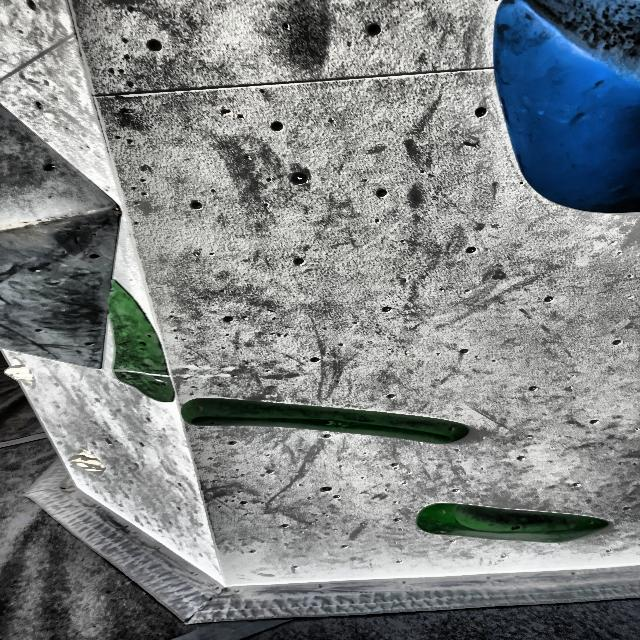hold: (182, 390, 477, 458), (106, 282, 174, 404), (417, 506, 614, 547)
